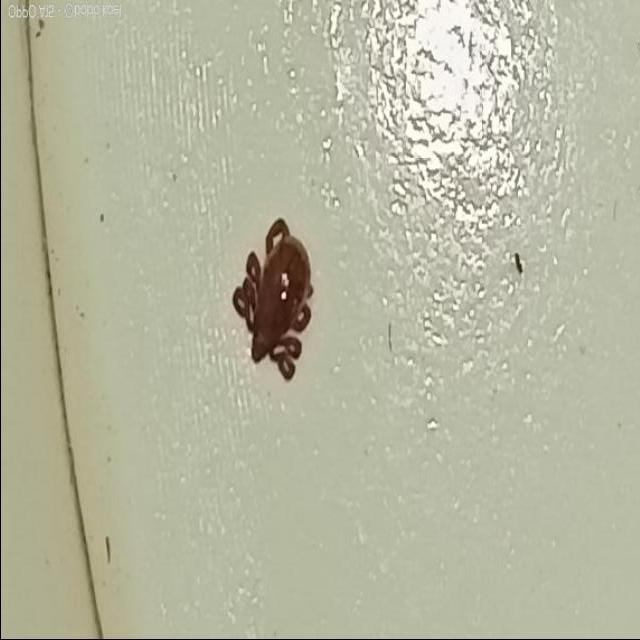Rhipicephalus Sanguineus-M: (231, 216, 315, 381)
